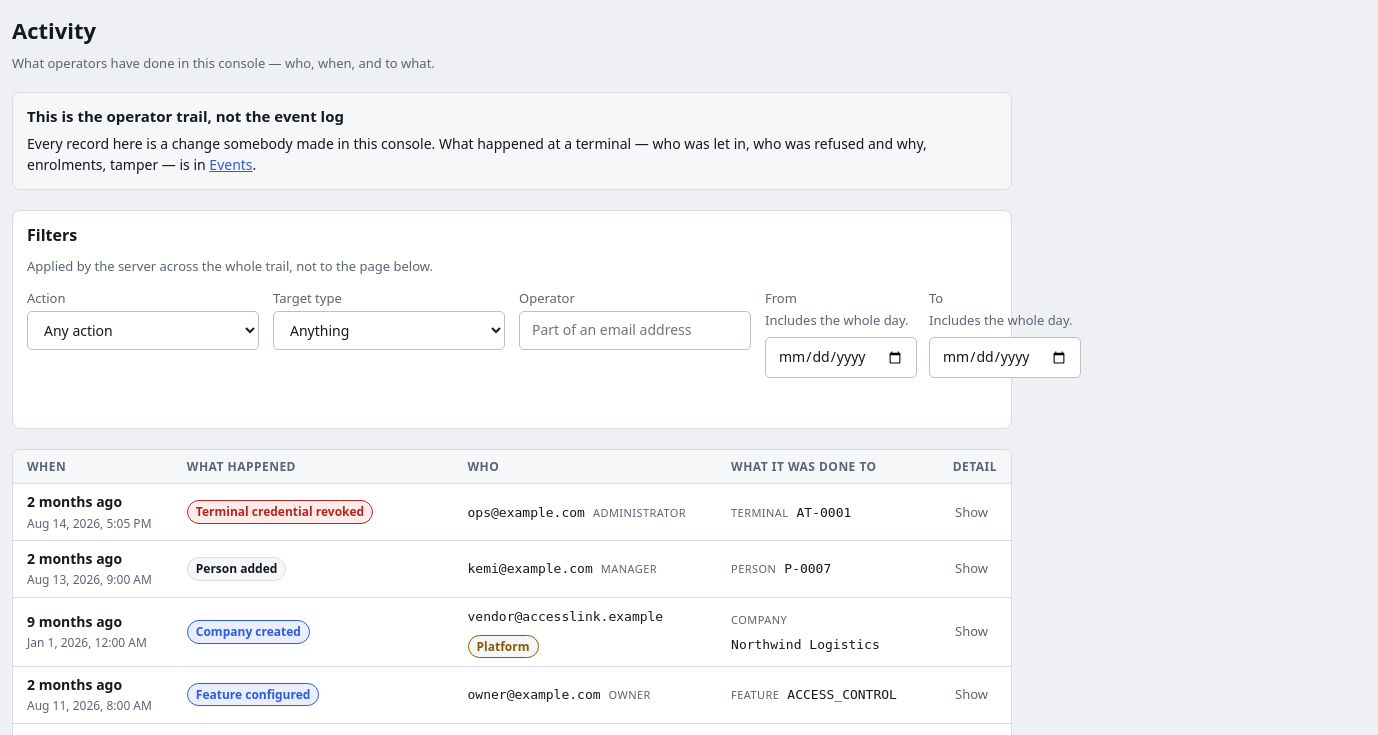
it: filtering › distinguishes "nothing matched" from "nothing recorded yet"
Expected: the text "AT-0001" is shown, [796, 504, 851, 523]
Select "Firmware published" in the dropdown labelled "Action" at (143, 331), box [27, 311, 259, 350]
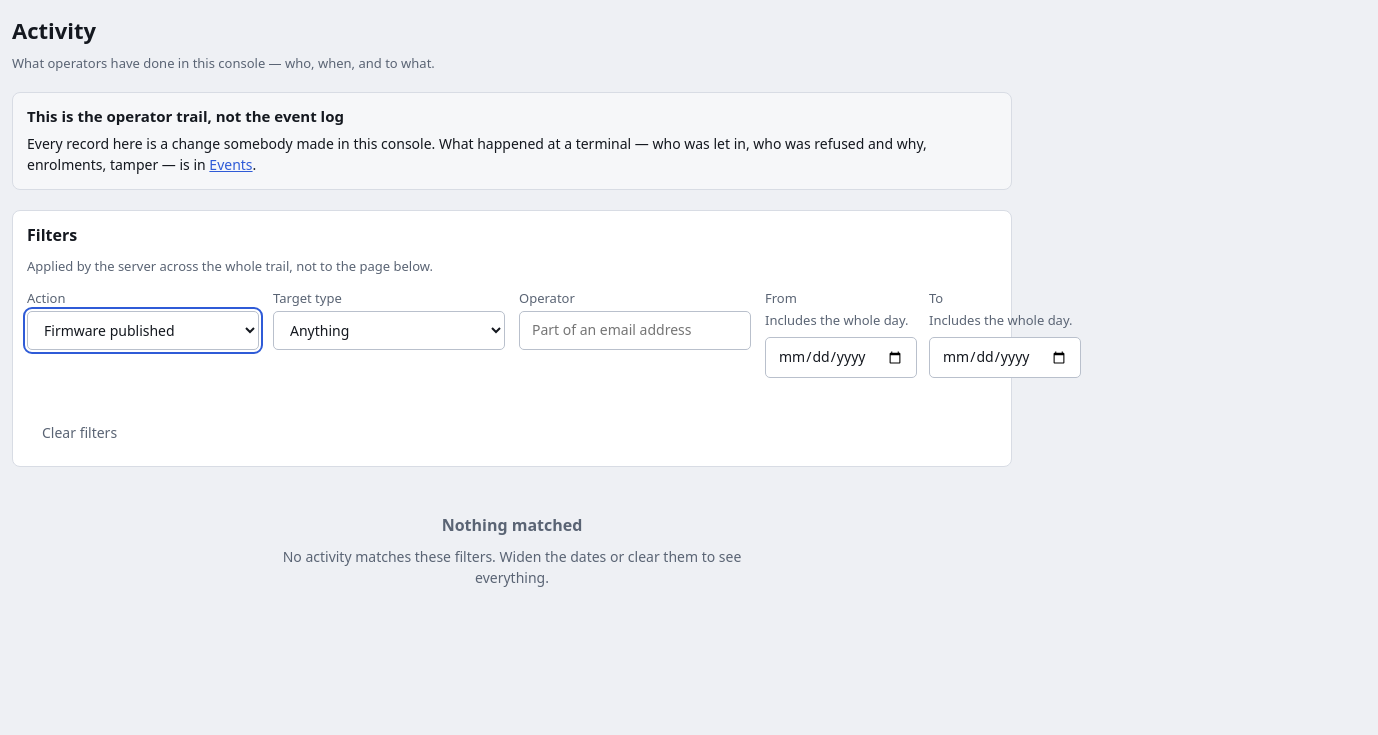
Expected: the heading "Nothing matched" is shown, [442, 515, 582, 535]
Click the button "Clear filters" at (80, 433), box [27, 414, 132, 452]
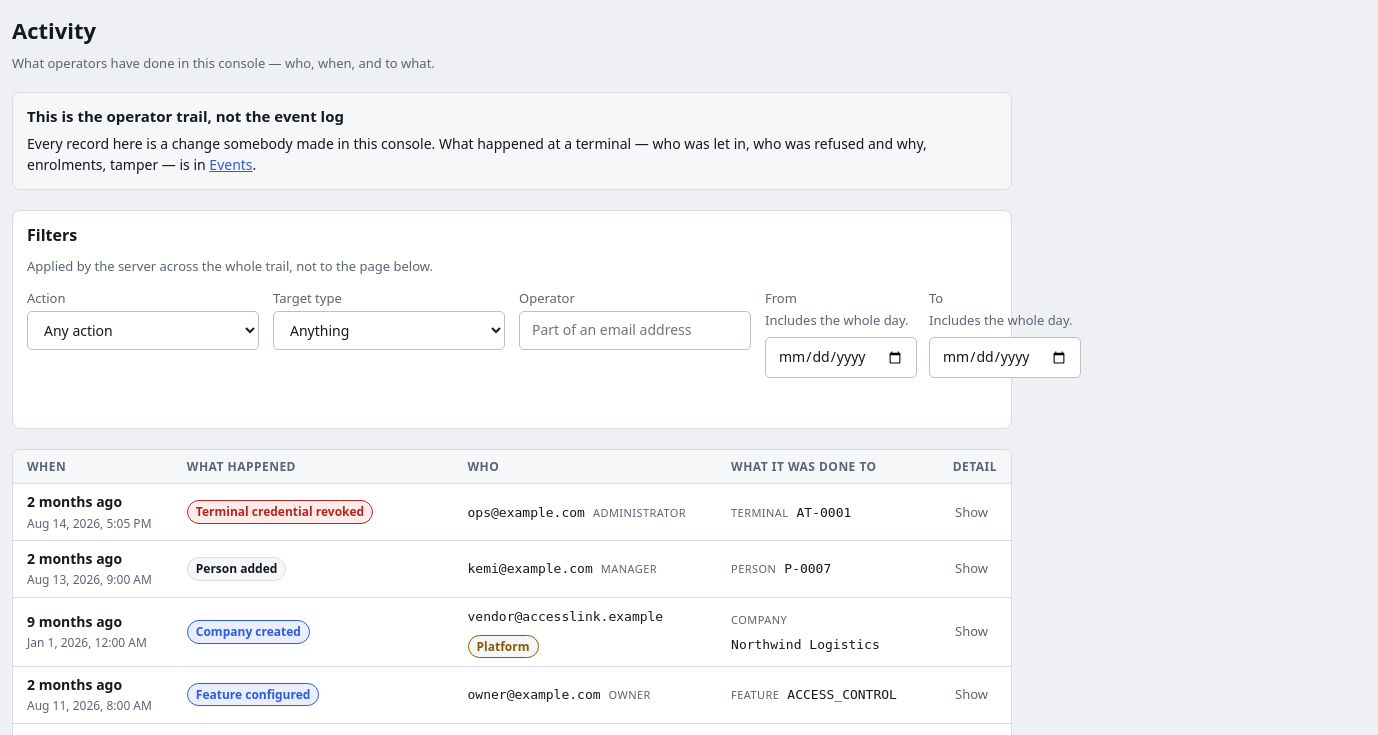
Expected: the text "AT-0001" is shown, [796, 504, 851, 523]
